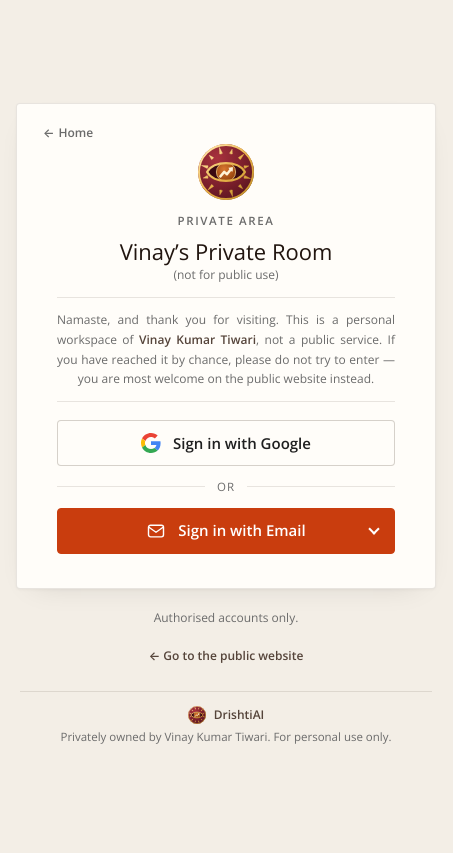
Test: while a visitor is paused, a listed address still goes straight through and the pause clears
Click the button "Sign in with Email". click: {"x": 226, "y": 530}
box: [57,508,395,554]
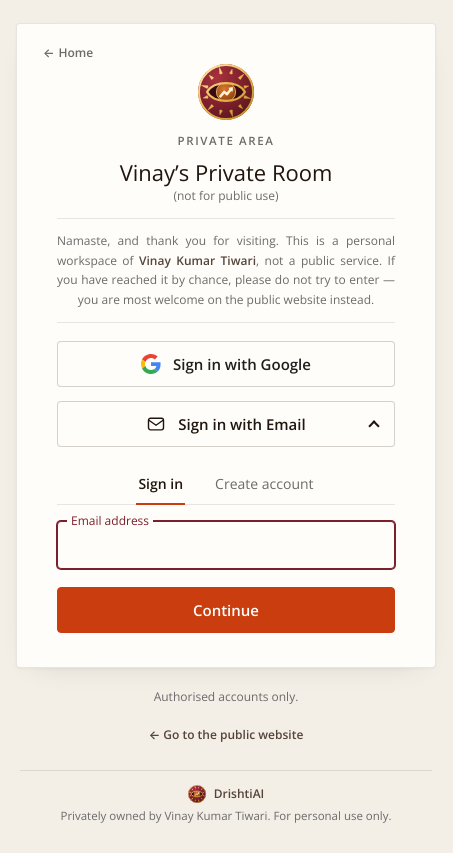
Type "stranger@elsewhere.org" into the field labelled "Email address". click: {"x": 226, "y": 545}
box: [57,521,395,569]
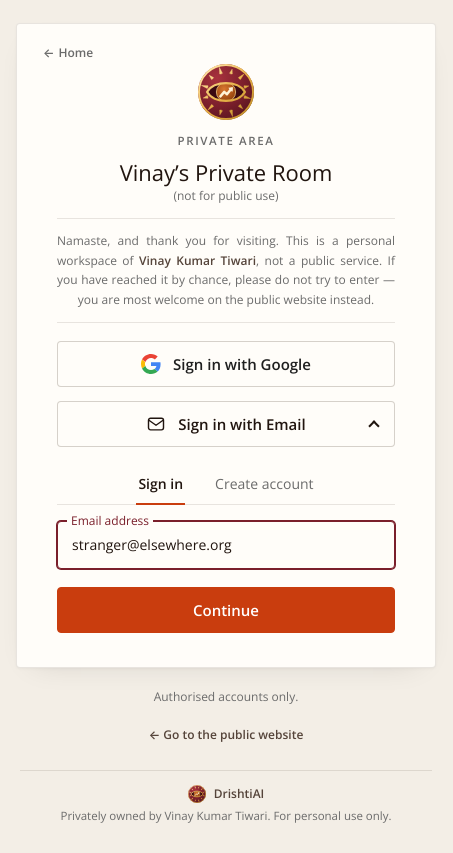
Click the button "Continue". click: {"x": 226, "y": 610}
box: [57,587,395,633]
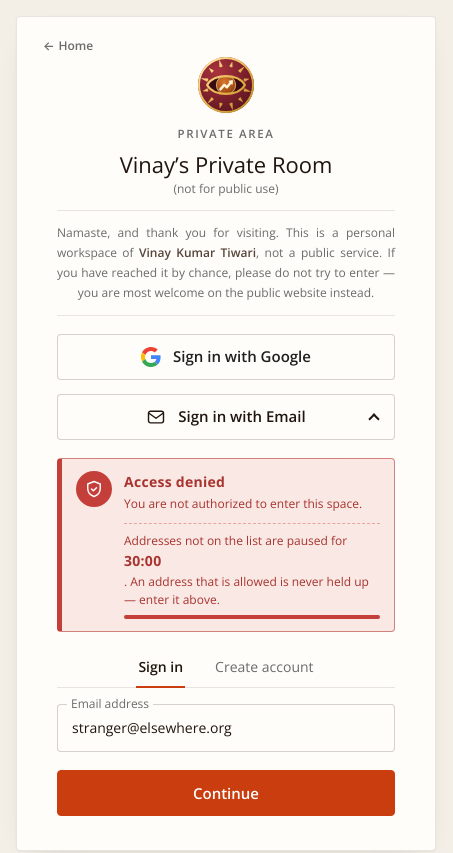
Check: the element named "Paused for 30:00" is shown, box [124,523,380,619]
Replace the text in the field labelled "Email address" with "owner@example.com". click: {"x": 226, "y": 728}
box: [57,704,395,752]
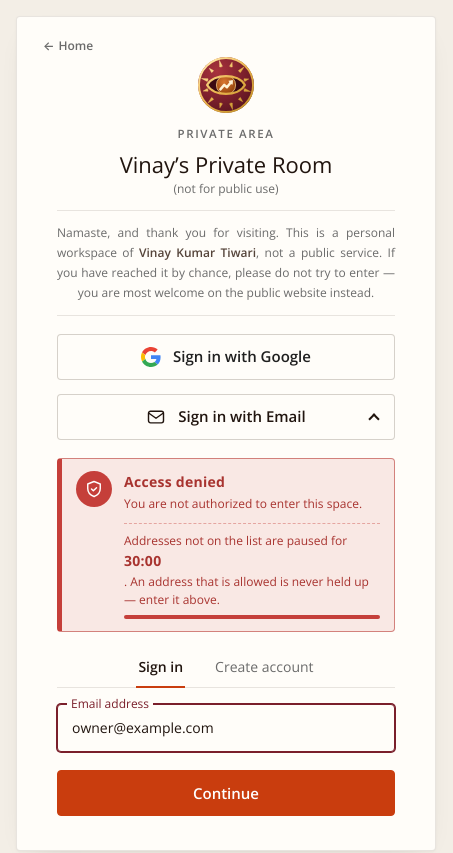
Click the button "Continue". click: {"x": 226, "y": 793}
box: [57,770,395,816]
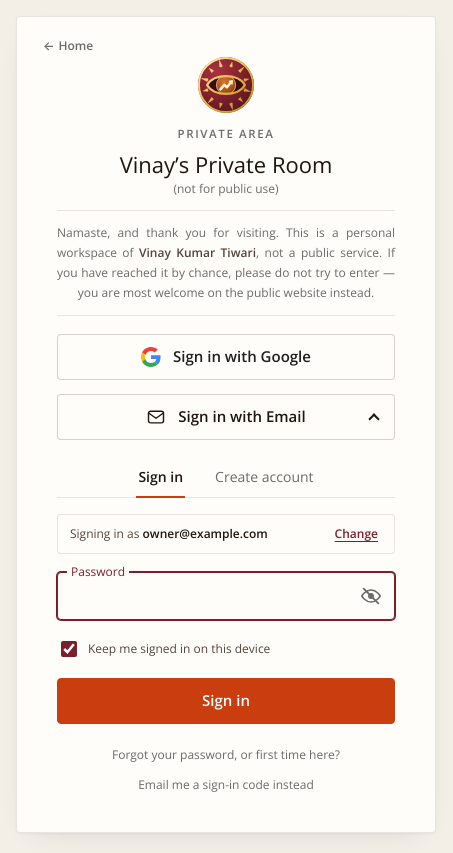
Check: the password field labelled "Password" is shown, box [57,572,395,620]
Check: the message is gone
